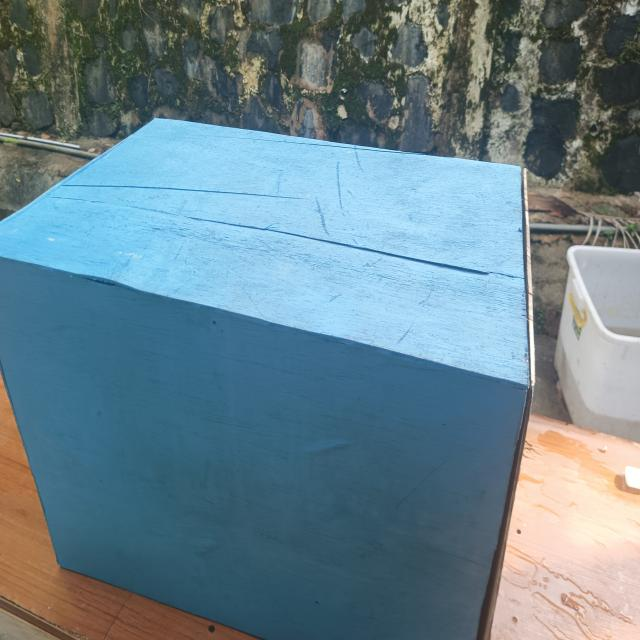blue_box: (0, 90, 540, 640)
